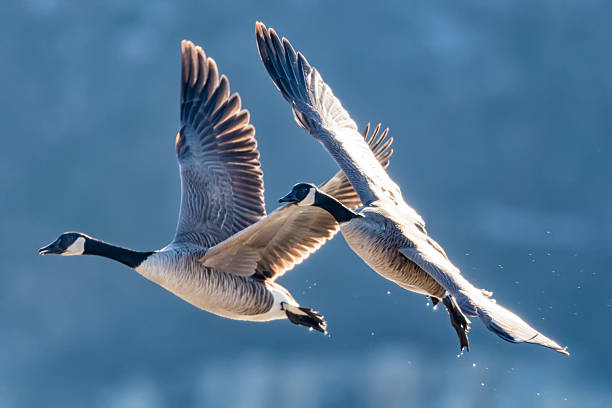goose: (34, 35, 399, 338), (253, 19, 574, 360)
